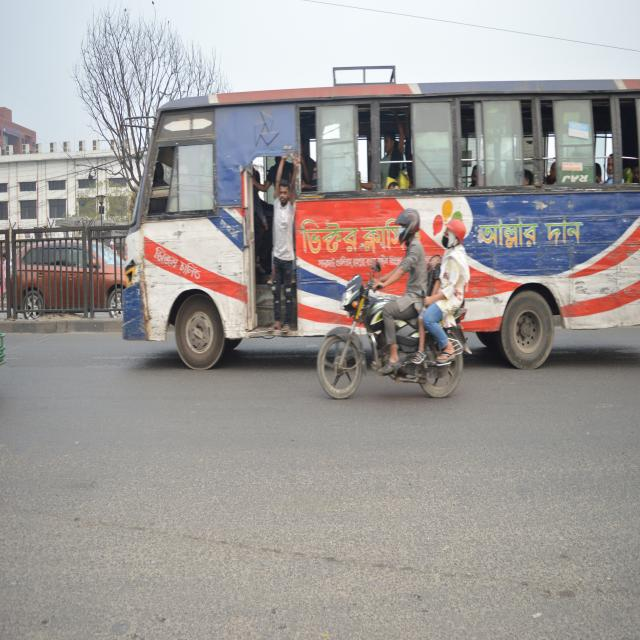bus: (137, 67, 640, 390)
microbus: (8, 229, 134, 324)
motorbike: (314, 268, 477, 431)
